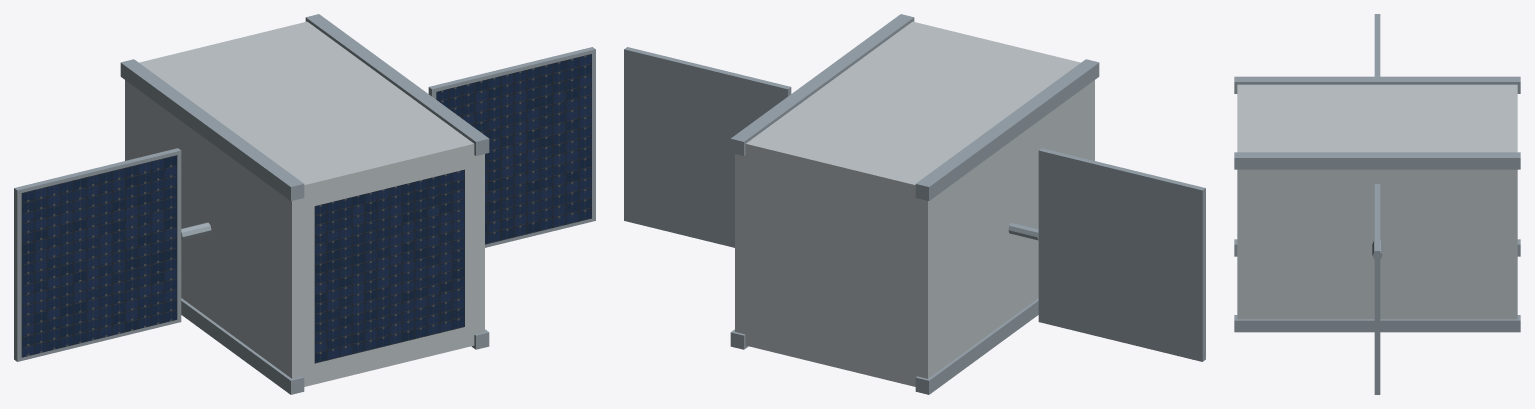
Rendered from ref-cubesat-6u-41171.glb.
The picture shows the model from 3 angles, left to right: view 1: azimuth 30°, elevation 25°; view 2: azimuth 150°, elevation 25°; view 3: azimuth 270°, elevation 25°; orthographic projection. The views are drawn at different scales.
Visible parts, largest first — view 1: Spacecraft body, Photovoltaic laminates (×2), Body-mounted cells, Dispenser rail (×3), Array frame (×2); view 2: Spacecraft body, Array frame (×2), Dispenser rail (×3); view 3: Spacecraft body, Dispenser rail (×3), Array frame (×2).
Part boxes in pixels (box(x1,y1,x2,y2)): Spacecraft body: box(125, 21, 484, 386); Photovoltaic laminates (×2): box(21, 54, 591, 357); Body-mounted cells: box(314, 169, 464, 363); Dispenser rail (×3): box(120, 14, 489, 394); Array frame (×2): box(14, 47, 595, 361); Spacecraft body: box(735, 21, 1094, 386); Array frame (×2): box(624, 47, 1205, 361); Dispenser rail (×3): box(730, 14, 1099, 394); Spacecraft body: box(1237, 84, 1517, 319); Dispenser rail (×3): box(1234, 76, 1520, 332); Array frame (×2): box(1374, 14, 1380, 394).
Size of the model in its own units: 0.6 by 0.206 by 0.306.
3 materials, 1 textured.
